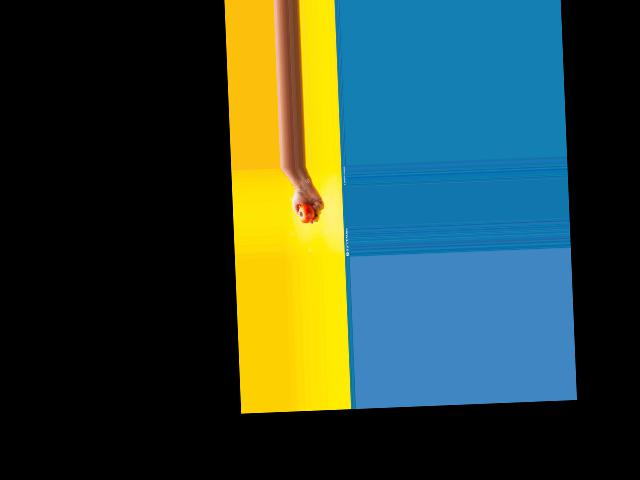tomato: (298, 203, 315, 223)
